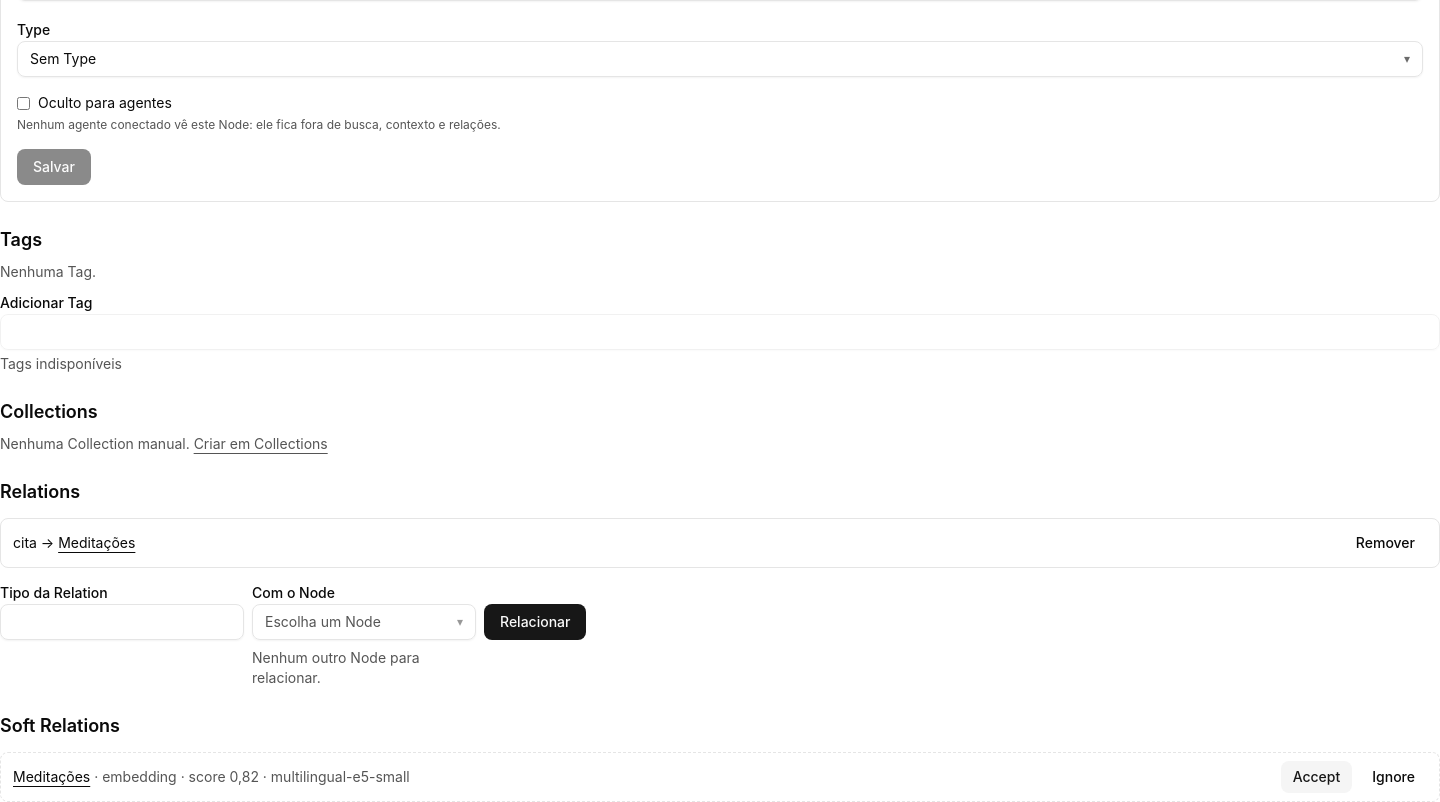
it: Soft Relations in the node inspector › sends one action while it is pending, and shows its error in the row
(page scrolled)
Click the button with aria-label "Accept Soft Relation com Meditações" at (1316, 777), box [1281,761,1352,793]
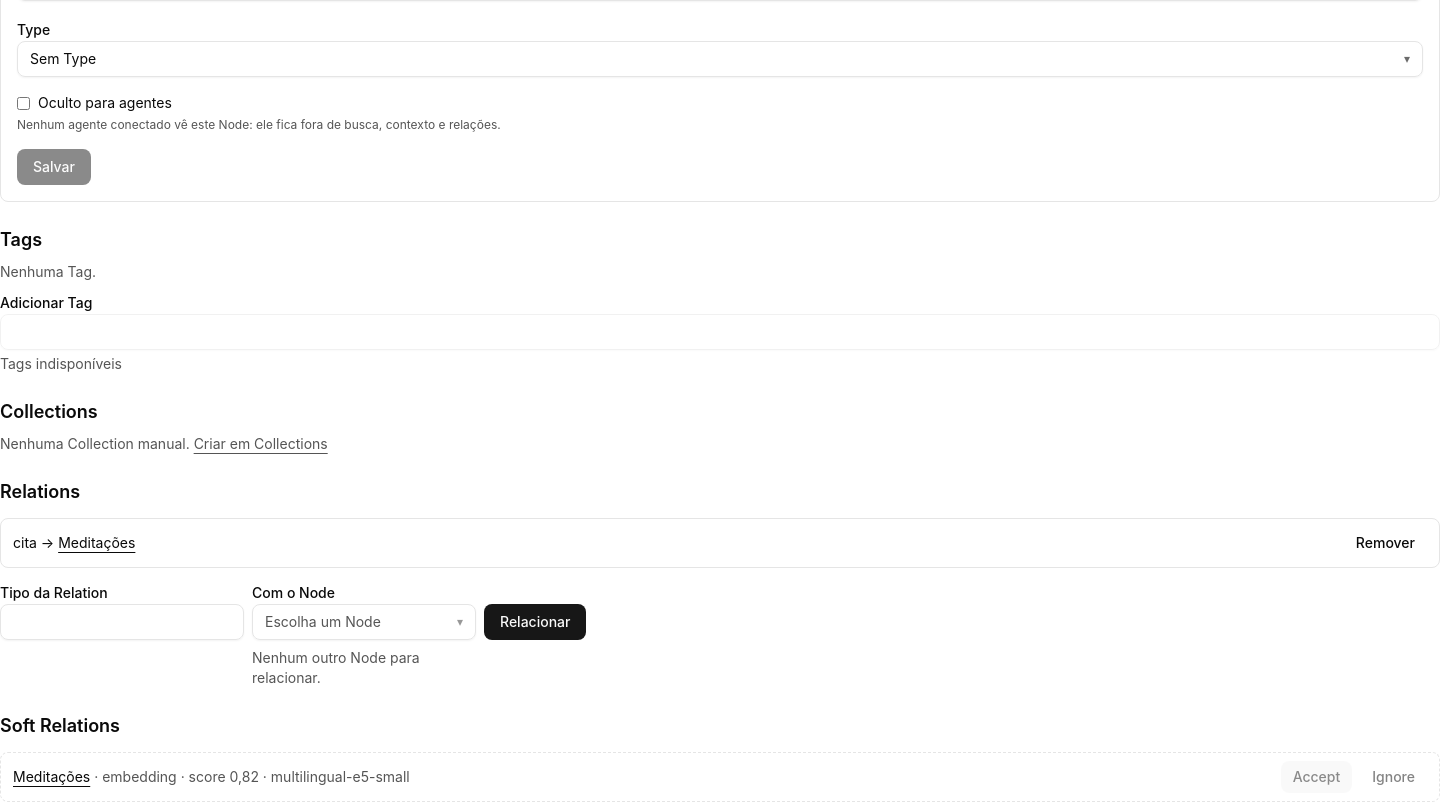
Expected: the button with aria-label "Accept Soft Relation com Meditações" is disabled
Expected: the button with aria-label "Ignore Soft Relation com Meditações" is disabled, [1360,761,1427,793]
Click the button with aria-label "Accept Soft Relation com Meditações" at (1316, 777), box [1281,761,1352,793]
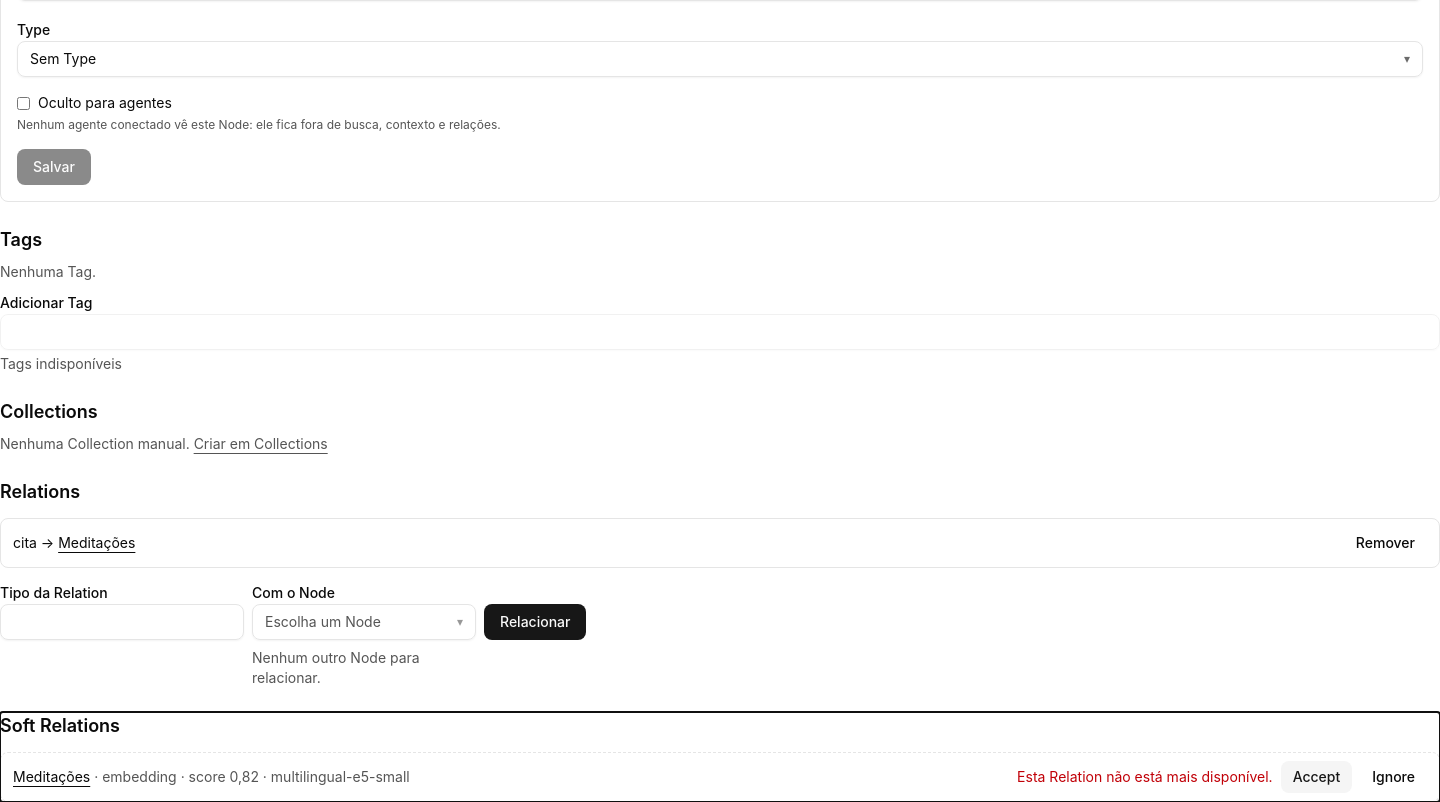
Expected: the message "Esta Relation não está mais disponível." is shown, [1017,767,1273,787]
